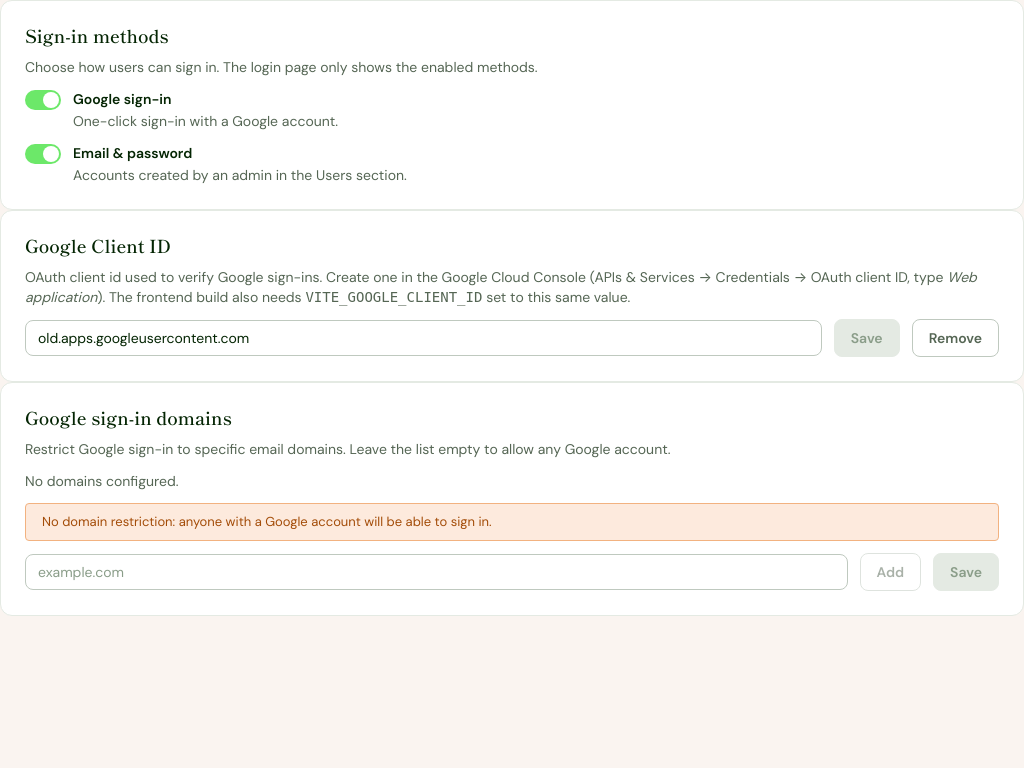
Scenario: AdminAuthentication › prefills the Google Client ID and saves an edit through the PUT endpoint
Replace the text in the field with placeholder "xxxxx.apps.googleusercontent.com" with "new.apps.googleusercontent.com" at (423, 338), box [25,320,822,356]
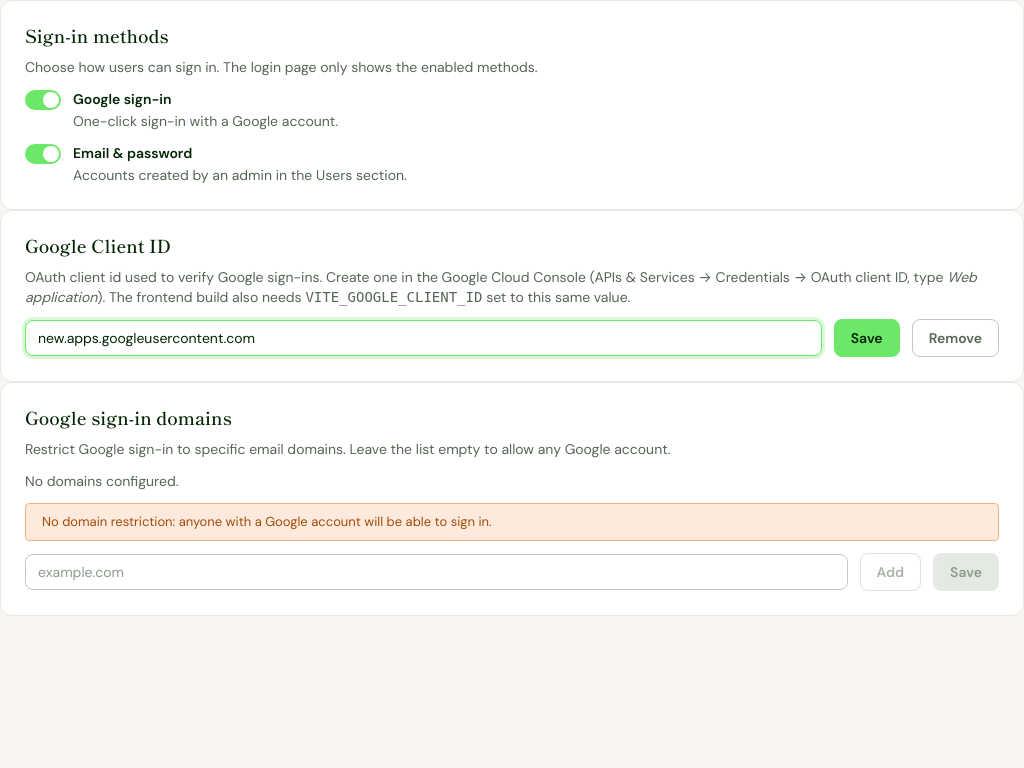
Click the button "Save" below "set to this same value." at (867, 338), box [834,319,900,357]
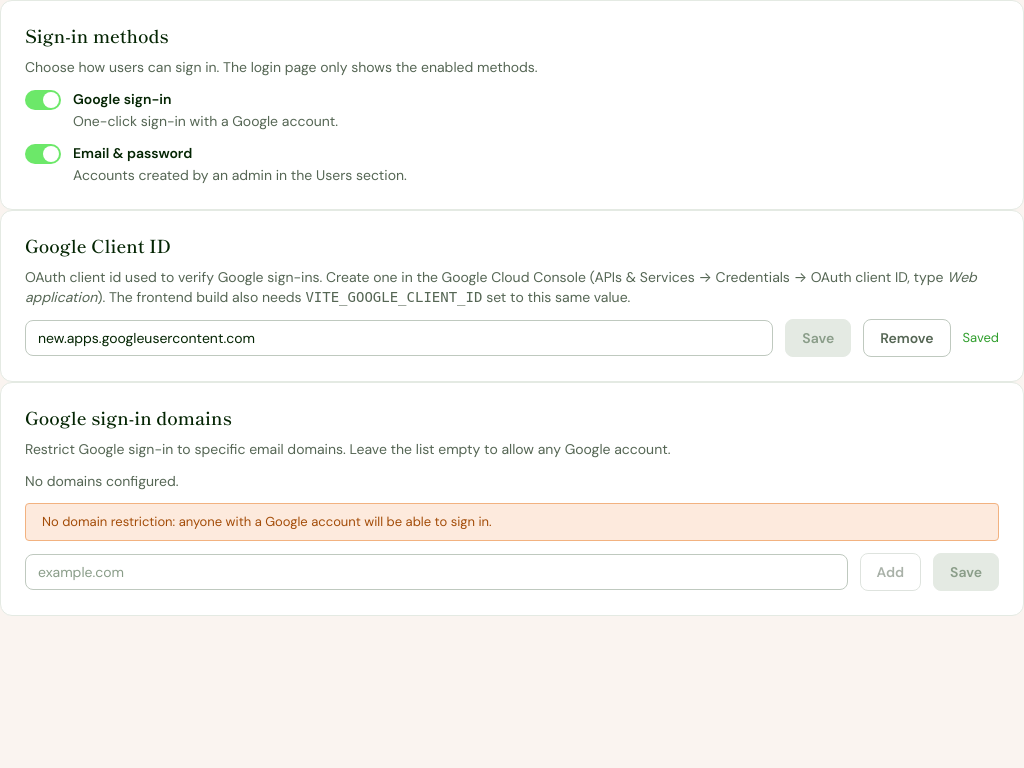
Result: the text "Saved" is shown at [963,328,999,348]
